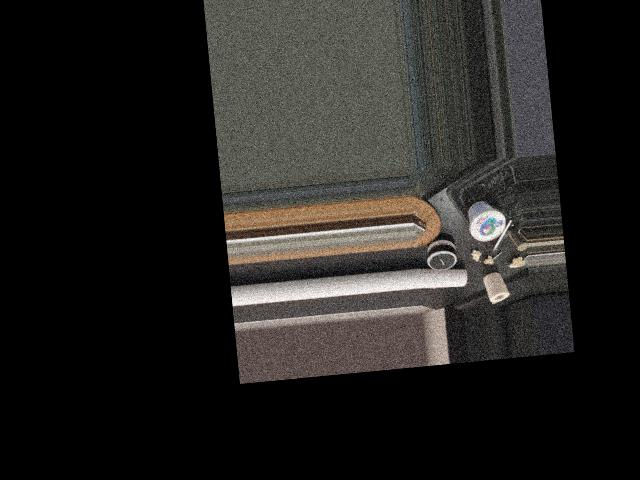cotage: (468, 196, 507, 240)
